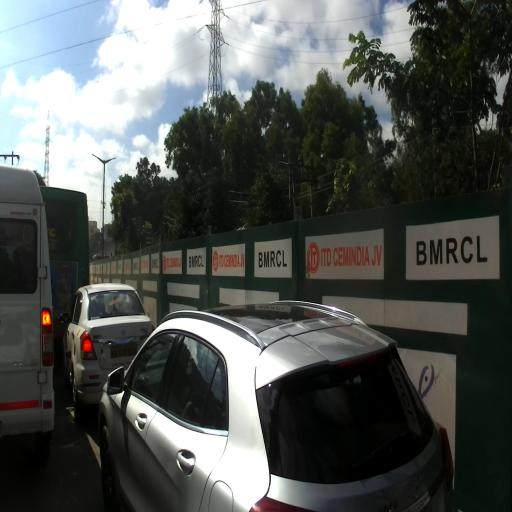street_light_0: (92, 153, 106, 166), (103, 157, 116, 167)
